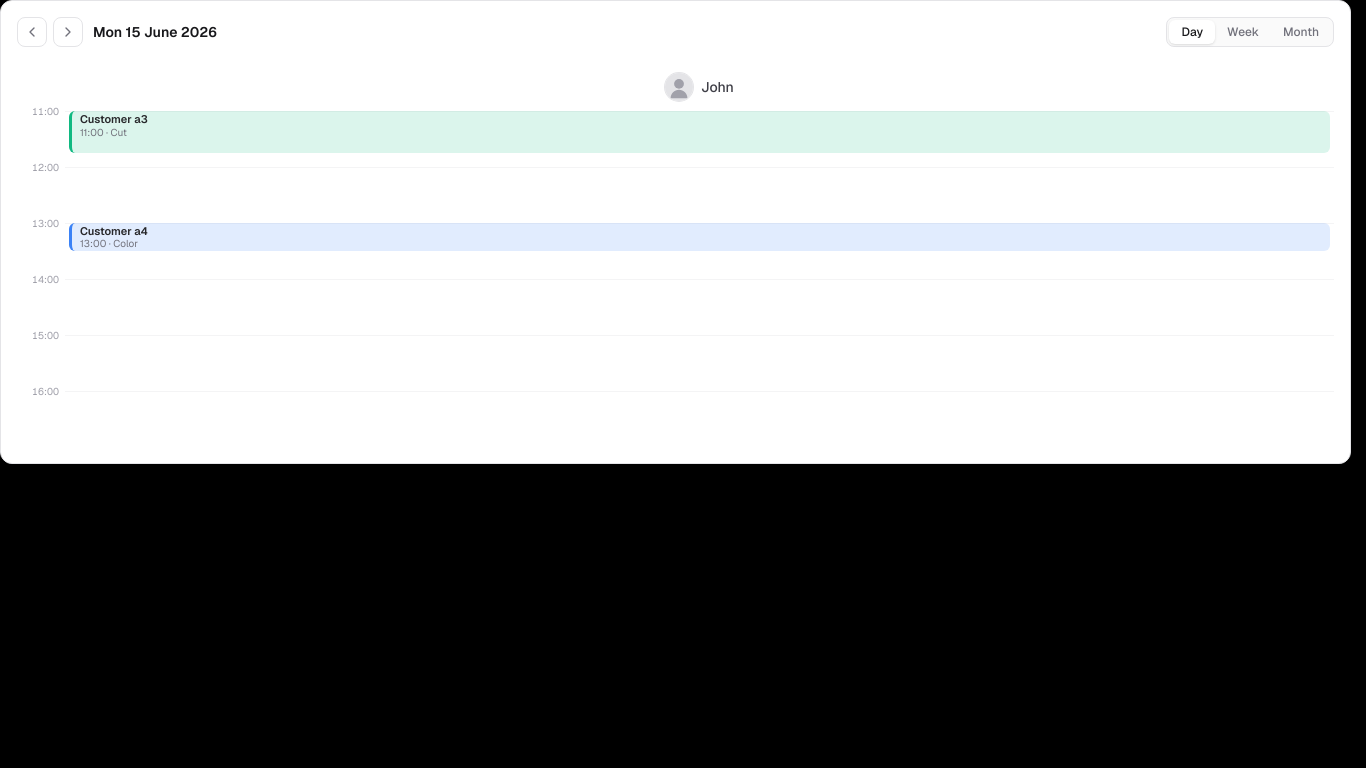
it: CalendarWidget › renders a month grid with weekday headers when switched to month
Click the button "month" at x=1301, y=32, box [1271,20,1331,44]
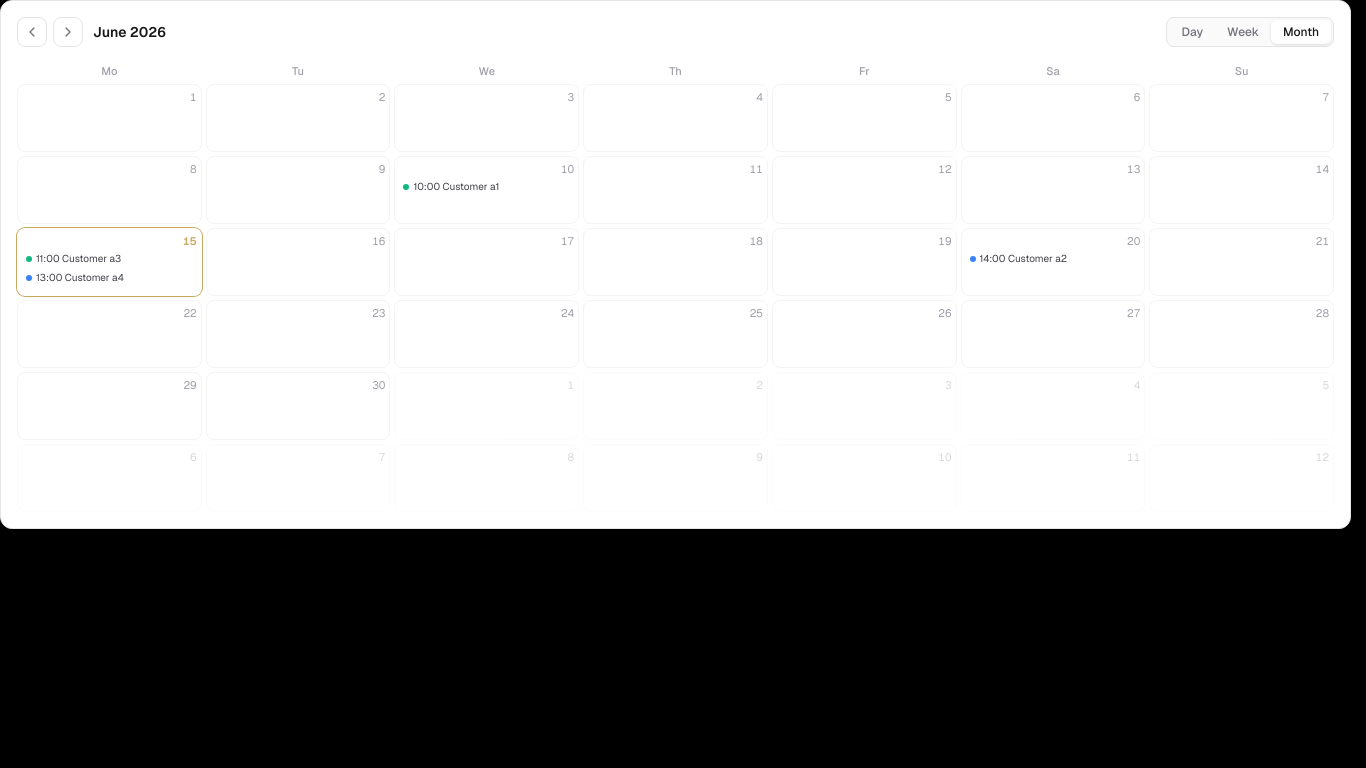
expect the text "Su" is shown: met, box [1235,64,1248,78]
expect the text "10:00 Customer a1" is shown: met, box [413,181,499,194]
expect the text "14:00 Customer a2" is shown: met, box [980,253,1067,266]
